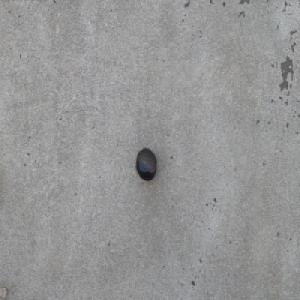FuelCap: (135, 146, 157, 181)
